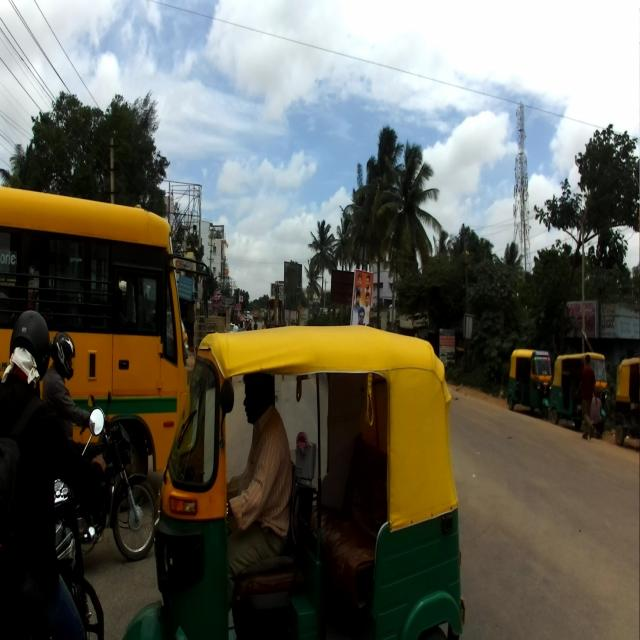autorickshaw: (123, 319, 465, 639), (508, 344, 557, 416)
bus: (0, 184, 181, 460)
